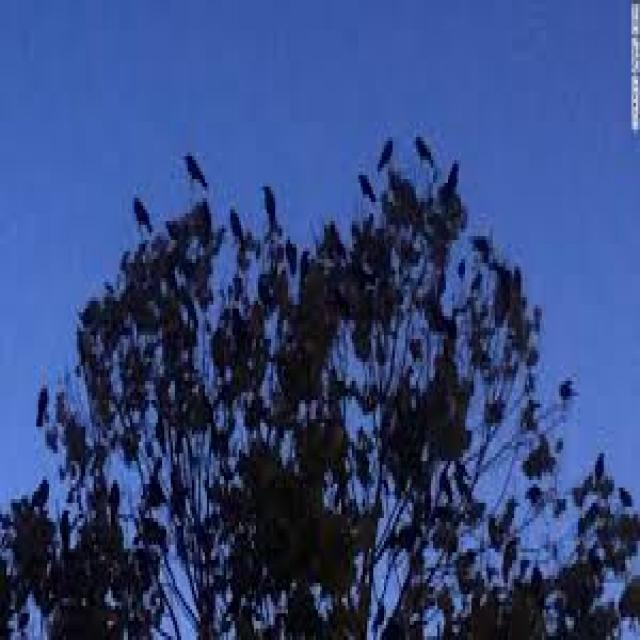bird: (169, 133, 224, 198), (408, 114, 441, 190), (26, 361, 58, 428), (254, 166, 284, 230), (345, 168, 382, 218), (119, 187, 158, 232), (380, 122, 406, 179), (554, 376, 580, 414), (591, 434, 606, 484)
